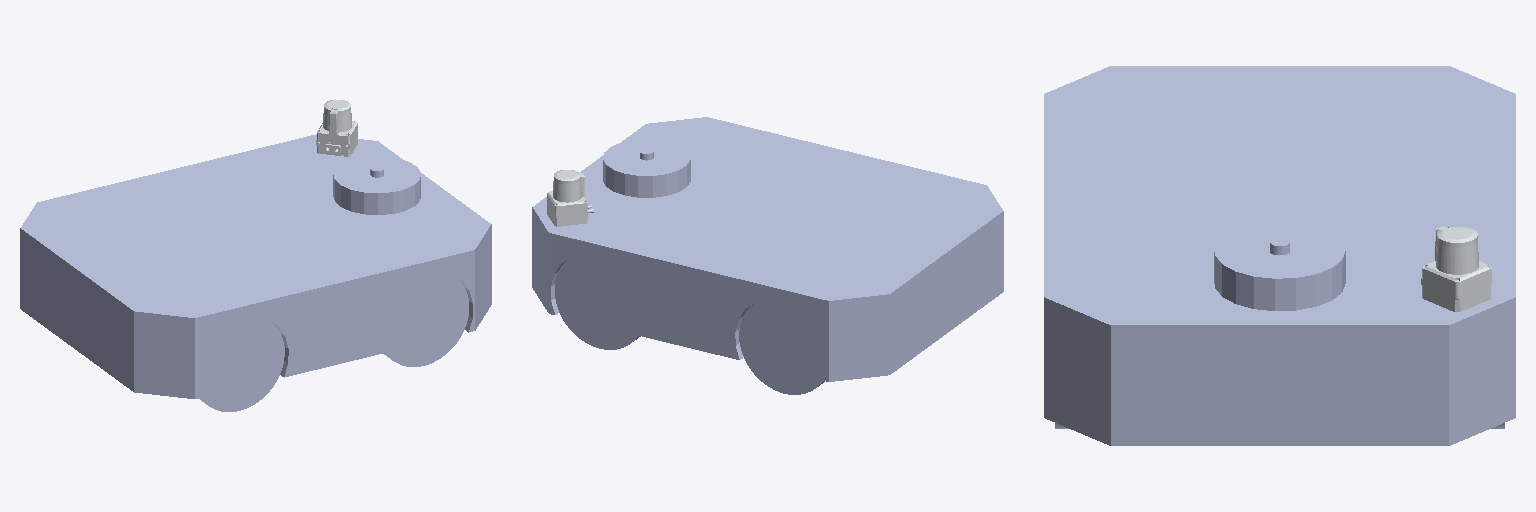
URDF robot description (suii_description):
<robot
  name="suii_description">
  <link
    name="base_link">
    <inertial>
      <origin
        xyz="0.00291234070014007 -1.66533453693773E-16 0.108047440506087"
        rpy="0 0 0" />
      <mass
        value="31.4408606561222" />
      <inertia
        ixx="0"
        ixy="0"
        ixz="0"
        iyy="0"
        iyz="0"
        izz="0" />
    </inertial>
    <visual>
      <origin
        xyz="0 0 0"
        rpy="0 0 0" />
      <geometry>
        <mesh
          filename="package://suii_description/meshes/base_link.STL" />
      </geometry>
      <material
        name="">
        <color
          rgba="0.792156862745098 0.819607843137255 0.933333333333333 1" />
      </material>
    </visual>
    <collision>
      <origin
        xyz="0 0 0"
        rpy="0 0 0" />
      <geometry>
        <mesh
          filename="package://suii_description/meshes/base_link.STL" />
      </geometry>
    </collision>
  </link>
  <link
    name="lidar_front">
    <inertial>
      <origin
        xyz="-0.00064881 3.9625E-06 -0.020287"
        rpy="0 0 0" />
      <mass
        value="0.36783" />
      <inertia
        ixx="0.00010865"
        ixy="3.8659E-08"
        ixz="-1.6811E-07"
        iyy="0.00011263"
        iyz="2.7923E-08"
        izz="3.9807E-06" />
    </inertial>
    <visual>
      <origin
        xyz="0 0 0"
        rpy="0 0 0" />
      <geometry>
        <mesh
          filename="package://suii_description/meshes/lidar_front.STL" />
      </geometry>
      <material
        name="">
        <color
          rgba="0.89804 0.91765 0.92941 1" />
      </material>
    </visual>
    <collision>
      <origin
        xyz="0 0 0"
        rpy="0 0 0" />
      <geometry>
        <mesh
          filename="package://suii_description/meshes/lidar_front.STL" />
      </geometry>
    </collision>
  </link>
  <joint
    name="base_lidar_front"
    type="fixed">
    <origin
      xyz="0.236544996527457 0.173000674539992 0.22"
      rpy="0 0 0.785398163397448" />
    <parent
      link="base_link" />
    <child
      link="lidar_front" />
    <axis
      xyz="0 0 0" />
  </joint>
  <link
    name="lidar_back">
    <inertial>
      <origin
        xyz="-0.000648809624193947 3.96245467831902E-06 -0.0202872608509019"
        rpy="0 0 0" />
      <mass
        value="0.36783371962175" />
      <inertia
        ixx="0.000108647845447292"
        ixy="3.8658954336174E-08"
        ixz="-1.68113694814512E-07"
        iyy="0.00011262777703387"
        iyz="2.79229405729065E-08"
        izz="3.98071378579849E-06" />
    </inertial>
    <visual>
      <origin
        xyz="0 0 0"
        rpy="0 0 0" />
      <geometry>
        <mesh
          filename="package://suii_description/meshes/lidar_back.STL" />
      </geometry>
      <material
        name="">
        <color
          rgba="0.898039215686275 0.917647058823529 0.929411764705882 1" />
      </material>
    </visual>
    <collision>
      <origin
        xyz="0 0 0"
        rpy="0 0 0" />
      <geometry>
        <mesh
          filename="package://suii_description/meshes/lidar_back.STL" />
      </geometry>
    </collision>
  </link>
  <joint
    name="base_lidar_back"
    type="fixed">
    <origin
      xyz="-0.239772970773009 -0.16977270029444 0.22"
      rpy="0 0 -2.35619449019234" />
    <parent
      link="base_link" />
    <child
      link="lidar_back" />
    <axis
      xyz="0 0 0" />
  </joint>
  <link
    name="wheel_right_back">
    <inertial>
      <origin
        xyz="0 0 0.0935384610645182"
        rpy="0 0 0" />
      <mass
        value="0.893028719302389" />
      <inertia
        ixx="0"
        ixy="0"
        ixz="0"
        iyy="0"
        iyz="0"
        izz="0" />
    </inertial>
    <visual>
      <origin
        xyz="0 0 0"
        rpy="0 0 0" />
      <geometry>
        <mesh
          filename="package://suii_description/meshes/wheel_right_back.STL" />
      </geometry>
      <material
        name="">
        <color
          rgba="0.792156862745098 0.819607843137255 0.933333333333333 1" />
      </material>
    </visual>
    <collision>
      <origin
        xyz="0 0 0"
        rpy="0 0 0" />
      <geometry>
        <mesh
          filename="package://suii_description/meshes/wheel_right_back.STL" />
      </geometry>
    </collision>
  </link>
  <joint
    name="base_wheel_right_back"
    type="continuous">
    <origin
      xyz="-0.154775 -0.0997000000000001 0.0750000000000002"
      rpy="1.5707963267949 -1.53833681942429 0" />
    <parent
      link="base_link" />
    <child
      link="wheel_right_back" />
    <axis
      xyz="0 0 1" />
  </joint>
  <link
    name="wheel_right_front">
    <inertial>
      <origin
        xyz="5.55111512312578E-17 0 0.0935384610645182"
        rpy="0 0 0" />
      <mass
        value="0.893028719302389" />
      <inertia
        ixx="0"
        ixy="0"
        ixz="0"
        iyy="0"
        iyz="0"
        izz="0" />
    </inertial>
    <visual>
      <origin
        xyz="0 0 0"
        rpy="0 0 0" />
      <geometry>
        <mesh
          filename="package://suii_description/meshes/wheel_right_front.STL" />
      </geometry>
      <material
        name="">
        <color
          rgba="0.792156862745098 0.819607843137255 0.933333333333333 1" />
      </material>
    </visual>
    <collision>
      <origin
        xyz="0 0 0"
        rpy="0 0 0" />
      <geometry>
        <mesh
          filename="package://suii_description/meshes/wheel_right_front.STL" />
      </geometry>
    </collision>
  </link>
  <joint
    name="base_wheel_right_front"
    type="continuous">
    <origin
      xyz="0.154775 -0.0997000000000001 0.075"
      rpy="1.5707963267949 0 0" />
    <parent
      link="base_link" />
    <child
      link="wheel_right_front" />
    <axis
      xyz="0 0 1" />
  </joint>
  <link
    name="wheel_left_back">
    <inertial>
      <origin
        xyz="0 0 -0.0263815389354818"
        rpy="0 0 0" />
      <mass
        value="0.893028719302389" />
      <inertia
        ixx="0"
        ixy="0"
        ixz="0"
        iyy="0"
        iyz="0"
        izz="0" />
    </inertial>
    <visual>
      <origin
        xyz="0 0 0"
        rpy="0 0 0" />
      <geometry>
        <mesh
          filename="package://suii_description/meshes/wheel_left_back.STL" />
      </geometry>
      <material
        name="">
        <color
          rgba="0.792156862745098 0.819607843137255 0.933333333333333 1" />
      </material>
    </visual>
    <collision>
      <origin
        xyz="0 0 0"
        rpy="0 0 0" />
      <geometry>
        <mesh
          filename="package://suii_description/meshes/wheel_left_back.STL" />
      </geometry>
    </collision>
  </link>
  <joint
    name="base_wheel_left_back"
    type="continuous">
    <origin
      xyz="-0.154775 0.21962 0.075"
      rpy="1.5707963267949 0.393094810426519 3.14159265358979" />
    <parent
      link="base_link" />
    <child
      link="wheel_left_back" />
    <axis
      xyz="0 0 -1" />
  </joint>
  <link
    name="wheel_left_front">
    <inertial>
      <origin
        xyz="0 0 -0.0263815389354819"
        rpy="0 0 0" />
      <mass
        value="0.893028719302389" />
      <inertia
        ixx="0"
        ixy="0"
        ixz="0"
        iyy="0"
        iyz="0"
        izz="0" />
    </inertial>
    <visual>
      <origin
        xyz="0 0 0"
        rpy="0 0 0" />
      <geometry>
        <mesh
          filename="package://suii_description/meshes/wheel_left_front.STL" />
      </geometry>
      <material
        name="">
        <color
          rgba="0.792156862745098 0.819607843137255 0.933333333333333 1" />
      </material>
    </visual>
    <collision>
      <origin
        xyz="0 0 0"
        rpy="0 0 0" />
      <geometry>
        <mesh
          filename="package://suii_description/meshes/wheel_left_front.STL" />
      </geometry>
    </collision>
  </link>
  <joint
    name="base_wheel_left_front"
    type="continuous">
    <origin
      xyz="0.154775 0.21962 0.075"
      rpy="1.5707963267949 0.393094810426517 3.14159265358979" />
    <parent
      link="base_link" />
    <child
      link="wheel_left_front" />
    <axis
      xyz="0 0 -1" />
  </joint>
  <link
    name="arm_placeholder">
    <inertial>
      <origin
        xyz="-5.55111512312578E-17 0.005 -5.55111512312578E-17"
        rpy="0 0 0" />
      <mass
        value="0.0031415926535898" />
      <inertia
        ixx="0"
        ixy="0"
        ixz="0"
        iyy="0"
        iyz="0"
        izz="0" />
    </inertial>
    <visual>
      <origin
        xyz="0 0 0"
        rpy="0 0 0" />
      <geometry>
        <mesh
          filename="package://suii_description/meshes/arm_placeholder.STL" />
      </geometry>
      <material
        name="">
        <color
          rgba="0.792156862745098 0.819607843137255 0.933333333333333 1" />
      </material>
    </visual>
    <collision>
      <origin
        xyz="0 0 0"
        rpy="0 0 0" />
      <geometry>
        <mesh
          filename="package://suii_description/meshes/arm_placeholder.STL" />
      </geometry>
    </collision>
  </link>
  <joint
    name="base_arm"
    type="fixed">
    <origin
      xyz="0.20331 0 0.205"
      rpy="1.5707963267949 0 0" />
    <parent
      link="base_link" />
    <child
      link="arm_placeholder" />
    <axis
      xyz="0 0 0" />
  </joint>
</robot>

--- Facts derived from the render (not from the file) ---
The picture shows the robot from 3 angles, left to right: view 1: azimuth 30°, elevation 25°; view 2: azimuth 150°, elevation 25°; view 3: azimuth 270°, elevation 25°; orthographic projection.
Robot: suii_description — 8 links, 7 joints (4 continuous, 3 fixed); root link base_link; default pose: all joints at 0.
Links seen in each view (by area): view 1: base_link, wheel_right_back, wheel_right_front, lidar_front; view 2: base_link, wheel_left_back, wheel_left_front, lidar_front; view 3: base_link, lidar_front.
Boxes of the visible links, x1,y1,x2,y2 form: base_link: (20, 134, 491, 398); wheel_right_back: (197, 316, 284, 411); wheel_right_front: (381, 271, 468, 366); lidar_front: (316, 100, 357, 156); base_link: (532, 117, 1003, 381); wheel_left_back: (739, 299, 826, 394); wheel_left_front: (555, 254, 642, 349); lidar_front: (547, 170, 594, 226); base_link: (1044, 66, 1515, 445); lidar_front: (1421, 226, 1491, 311).
Bounding box of the posed robot: 0.5994 × 0.4594 × 0.2415 m (x, y, z).
7 mesh visuals loaded from 8 distinct referenced files (7 binary STL); not drawn: 1 (reference not matched to a file when rendering).
